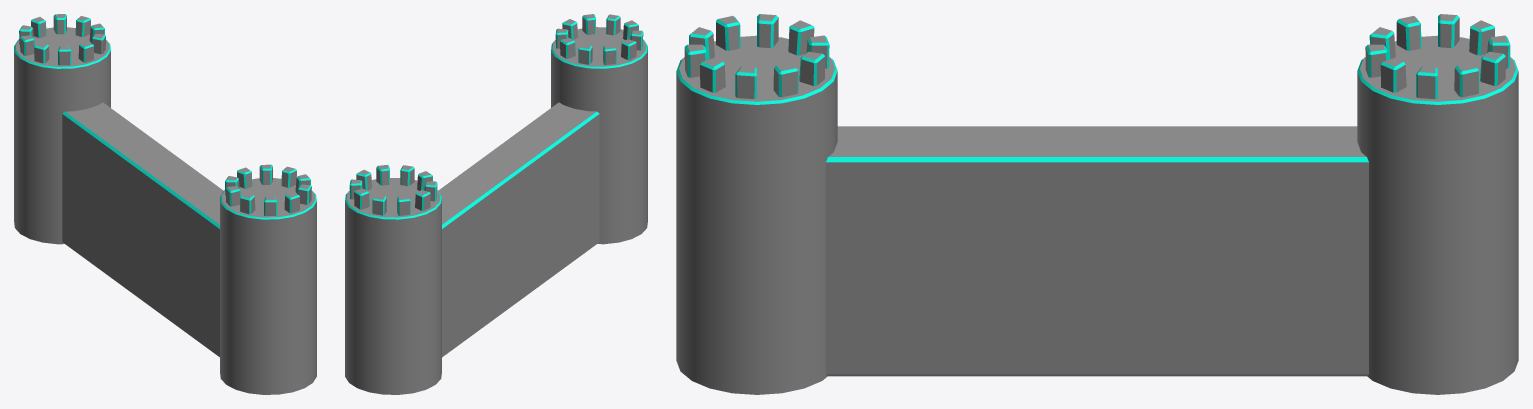
Rendered from Stone Wall.fbx.
3 renders of one model, left to right at view 1: azimuth 30°, elevation 25°; view 2: azimuth 150°, elevation 25°; view 3: azimuth 270°, elevation 25°, orthographic. The views are drawn at different scales.
Parts seen in each view (by area): view 1: Stone_Wall; view 2: Stone_Wall; view 3: Stone_Wall.
Boxes of the visible parts, x1=… form: Stone_Wall: x1=14, y1=14, x2=316, y2=394; Stone_Wall: x1=345, y1=14, x2=647, y2=394; Stone_Wall: x1=676, y1=14, x2=1518, y2=394.
Bounding box in the file's own units: 400 × 869 × 2089.
